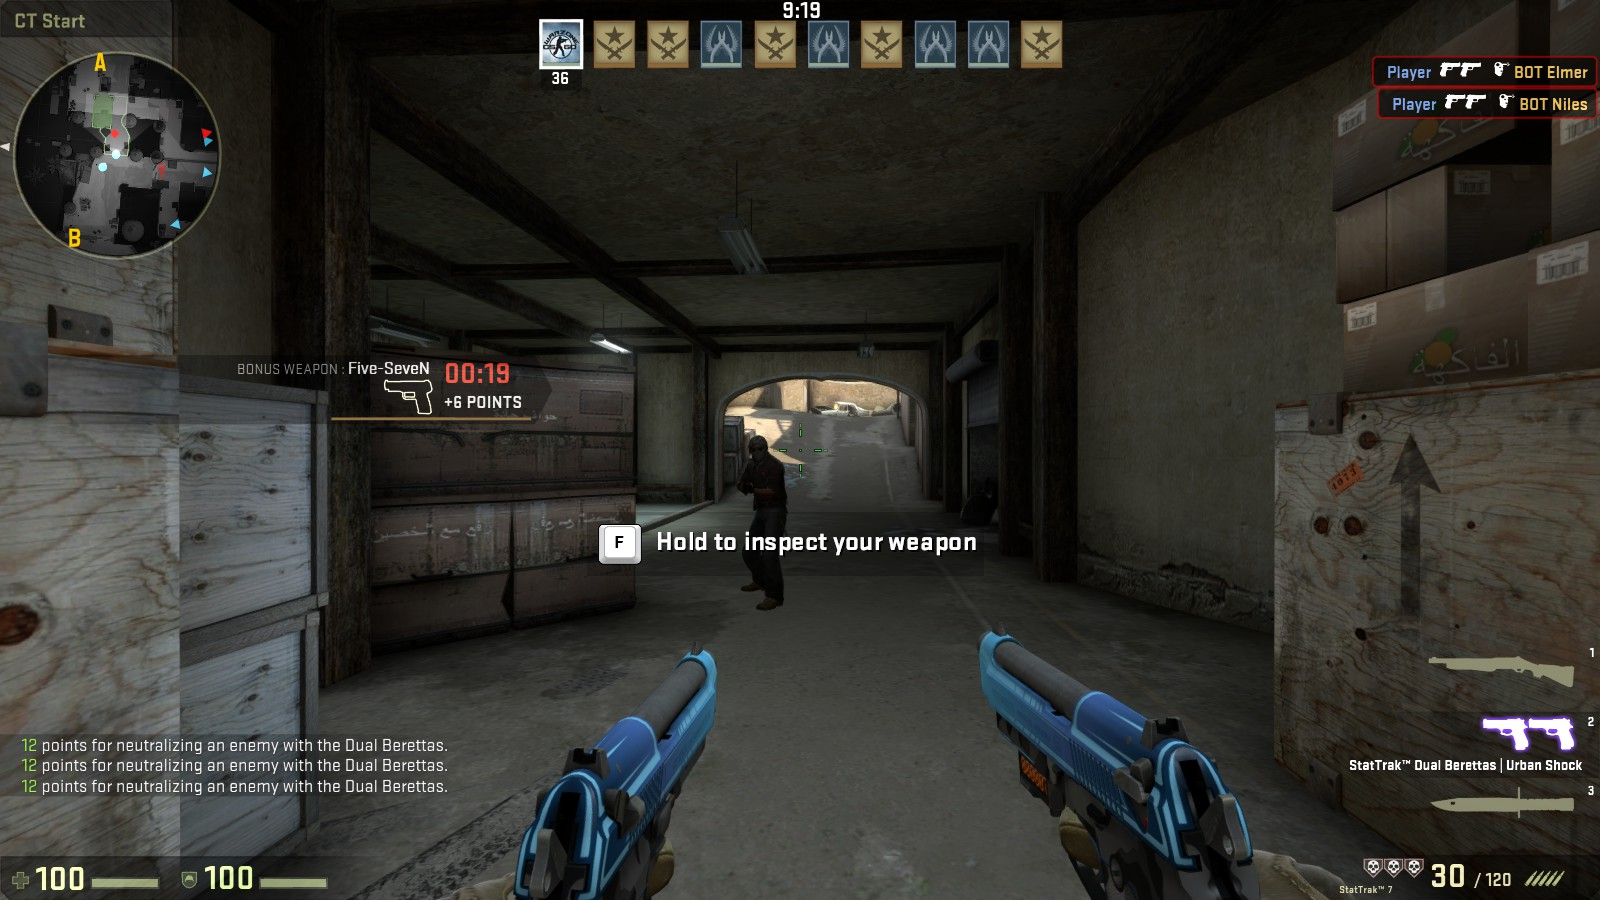t: (726, 426, 796, 616)
th: (741, 431, 777, 466)
